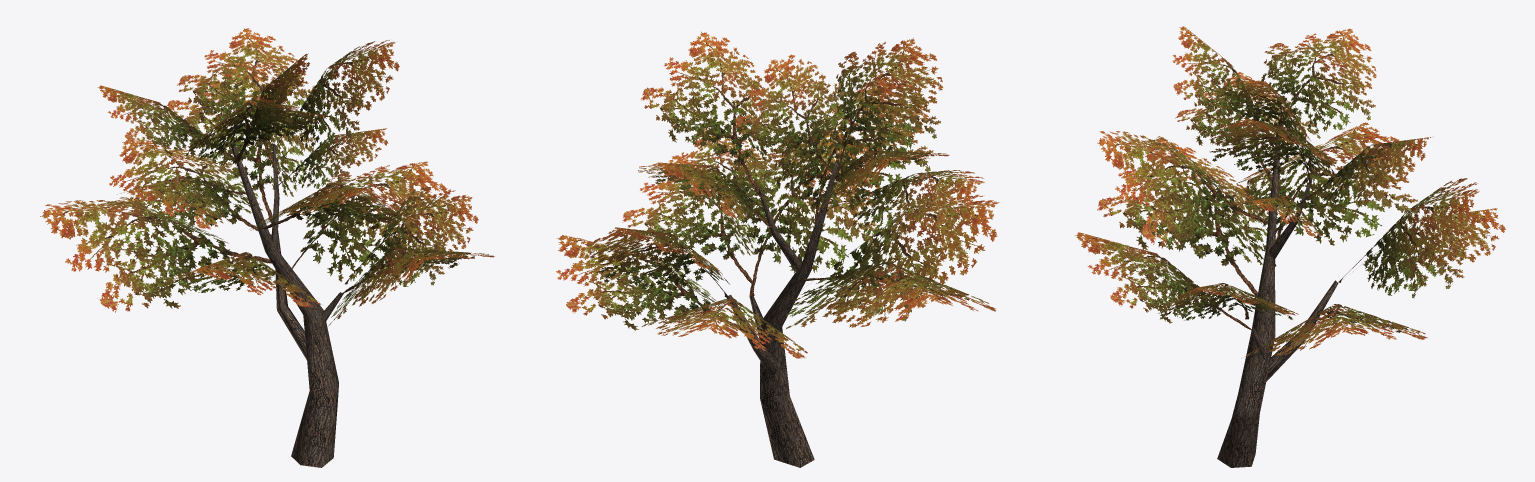
Rendered from tre_maple02.static.glb.
3 views of the same model, side by side, from view 1: azimuth 30°, elevation 25°; view 2: azimuth 150°, elevation 25°; view 3: azimuth 270°, elevation 25° (orthographic). The views are drawn at different scales.
Parts seen in each view (by area): view 1: tre_maple02_leaf, tre_maple02_brn; view 2: tre_maple02_leaf, tre_maple02_brn; view 3: tre_maple02_leaf, tre_maple02_brn.
Boxes of the visible parts, x1,y1,x2,y2 form: tre_maple02_leaf: [40, 28, 494, 325]; tre_maple02_brn: [230, 142, 343, 467]; tre_maple02_leaf: [556, 32, 999, 358]; tre_maple02_brn: [726, 161, 838, 467]; tre_maple02_leaf: [1075, 26, 1505, 358]; tre_maple02_brn: [1217, 125, 1338, 467].
Bounding box in the file's own units: 17.54 × 16.68 × 17.52.
Materials: 2 (2 with a texture image).
